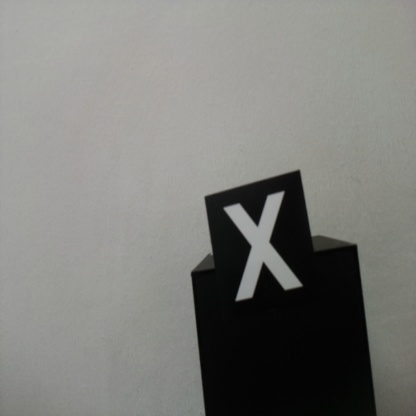id_13: (204, 193, 320, 315)
